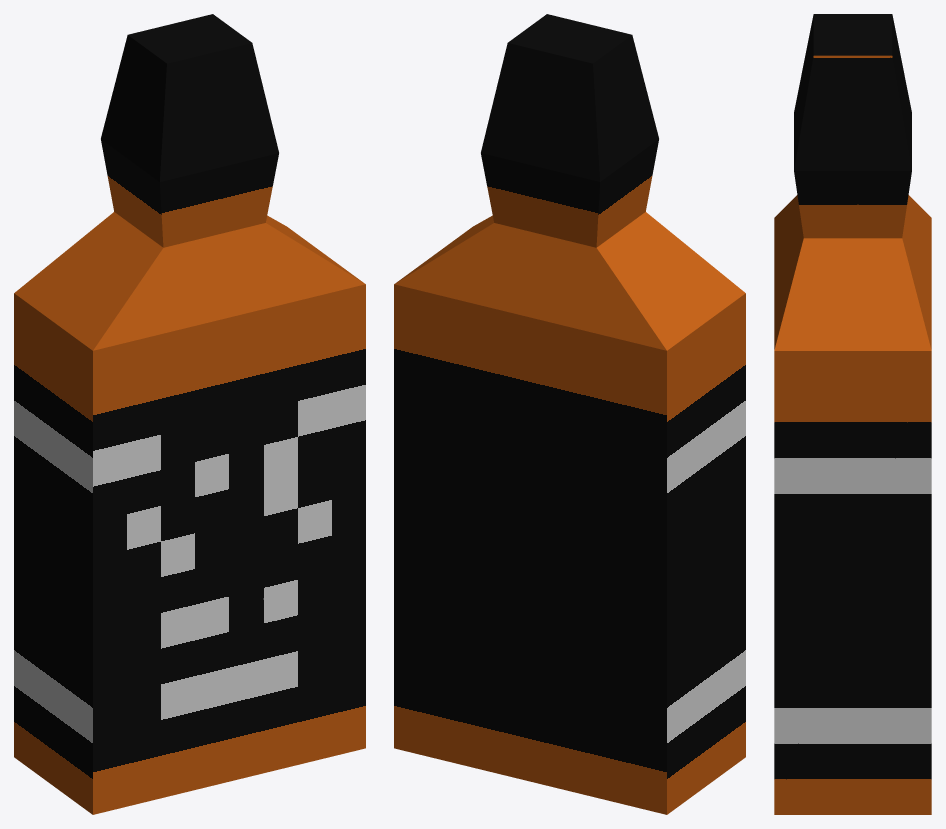
The model's file is BOTEIY.fbx.
3 renders of one model, left to right at view 1: azimuth 30°, elevation 25°; view 2: azimuth 150°, elevation 25°; view 3: azimuth 270°, elevation 25°, orthographic.
Parts seen in each view (by area): view 1: mesh; view 2: mesh; view 3: mesh.
Part boxes in pixels (x1,y1,x2,y2): mesh: [14, 14, 365, 814]; mesh: [394, 14, 745, 814]; mesh: [774, 14, 931, 814].
Bounding box in the file's own units: 50 × 125 × 25.
Materials: 1 (1 with a texture image).
